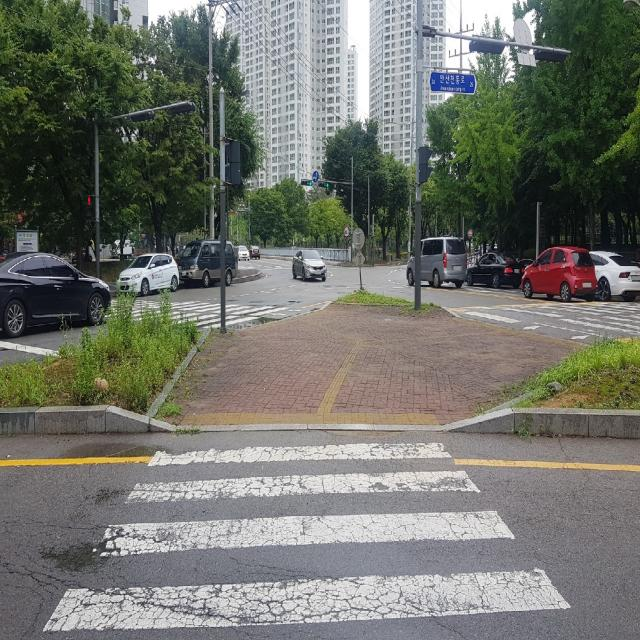횡단보도: (40, 438, 574, 636), (450, 284, 640, 361), (110, 287, 274, 341)
